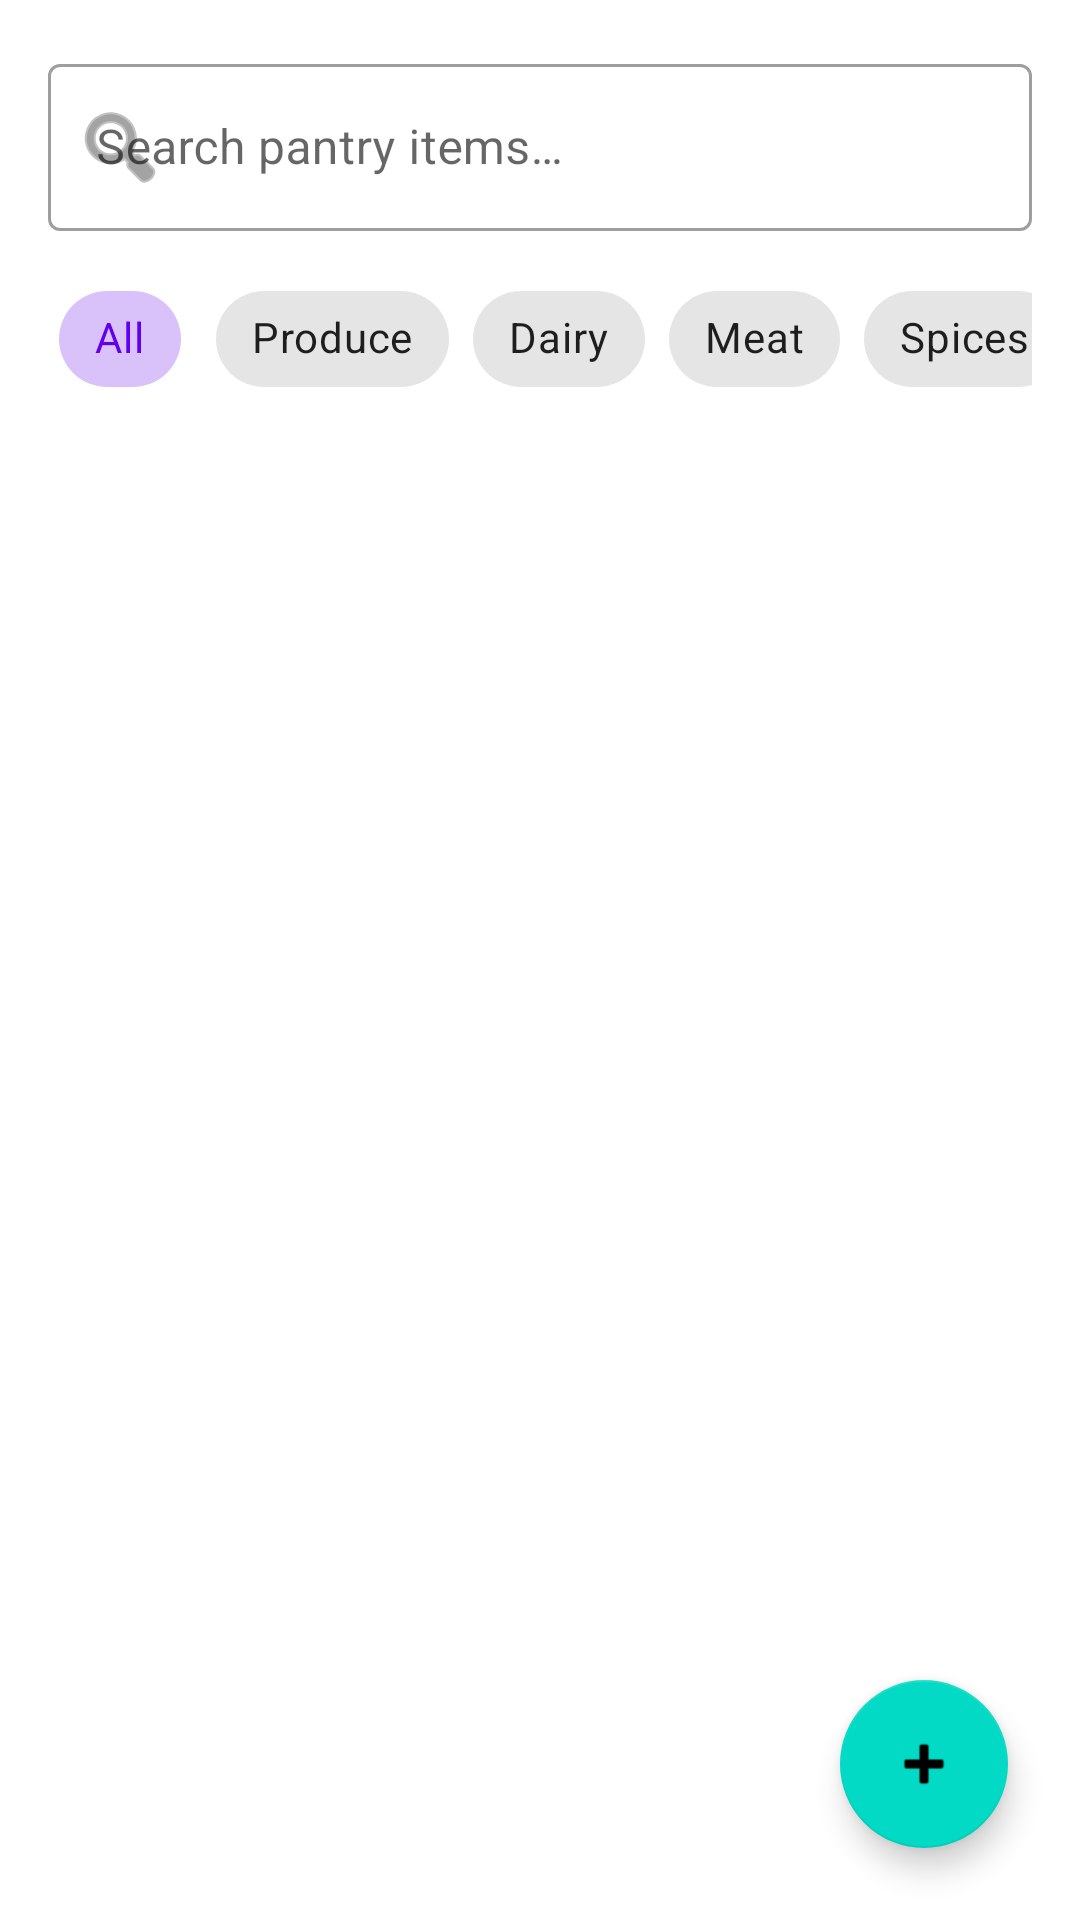

Icons on this 1080w x 1920h Android screen, each with its box as [x1,y1,x2,y2]:
Add Pantry Item: [840,1680,1008,1848]
